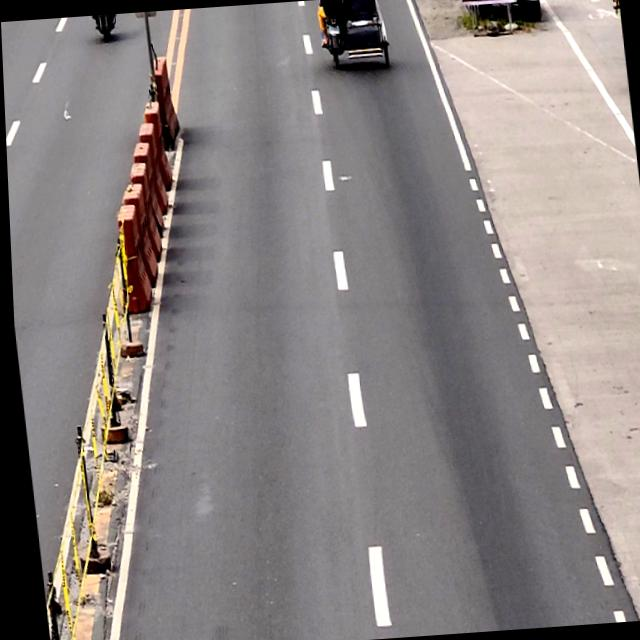License-Plate: (328, 24, 340, 34)
Tricycle: (317, 0, 391, 73)
